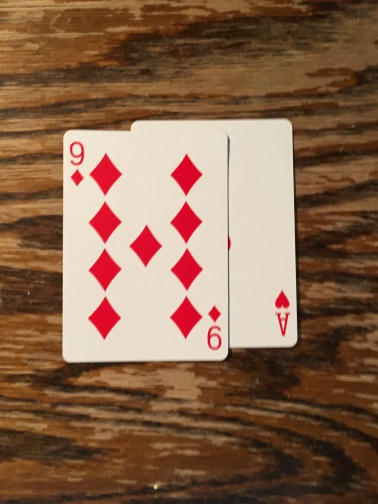ace: (224, 122, 300, 348)
nine: (63, 130, 229, 360)
